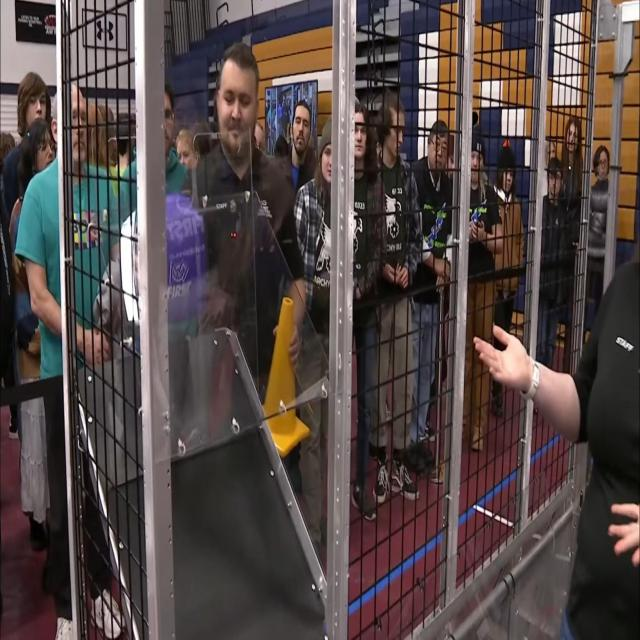frc_cone: (250, 293, 312, 452)
frc_cube: (141, 197, 209, 340)
